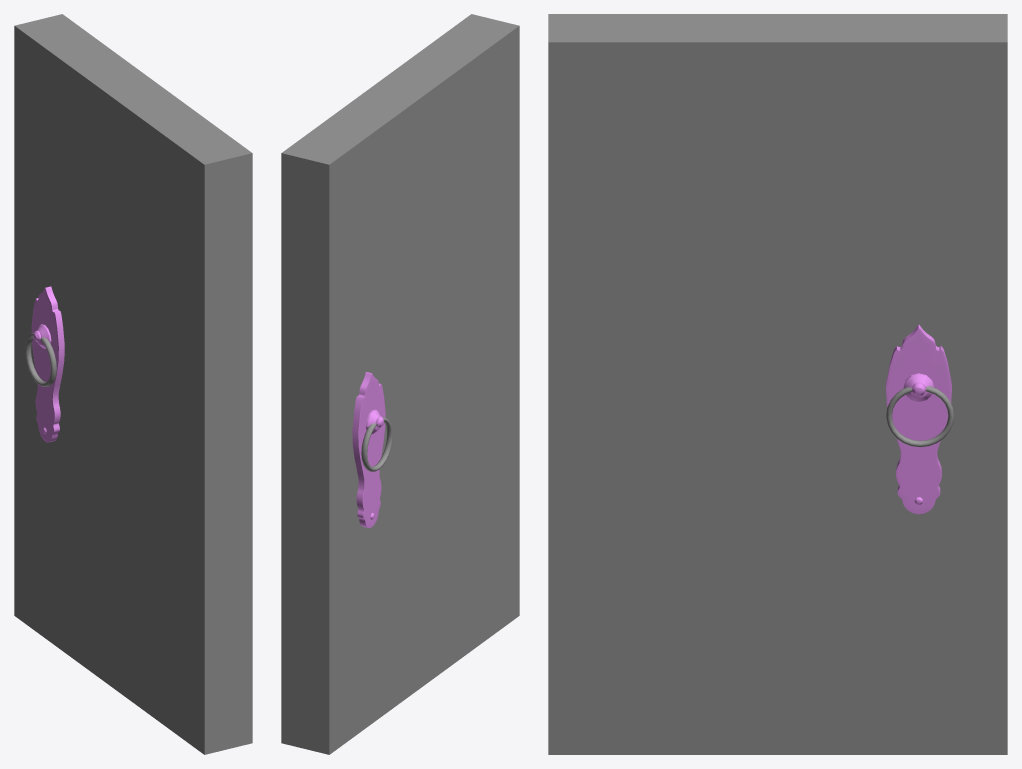
The model's file is SM_OctagonDoor_A_002.FBX.
3 views of the same model, side by side, from view 1: azimuth 30°, elevation 25°; view 2: azimuth 150°, elevation 25°; view 3: azimuth 270°, elevation 25° (orthographic). The views are drawn at different scales.
Parts seen in each view (by area): view 1: SM_OctagonDoor_A_002; view 2: SM_OctagonDoor_A_002; view 3: SM_OctagonDoor_A_002.
Part boxes in pixels (<box>): SM_OctagonDoor_A_002: <box>14,14,252,754</box>; SM_OctagonDoor_A_002: <box>281,14,519,754</box>; SM_OctagonDoor_A_002: <box>548,14,1007,754</box>.
Size of the model in its own units: 34.46 by 235 by 137.
